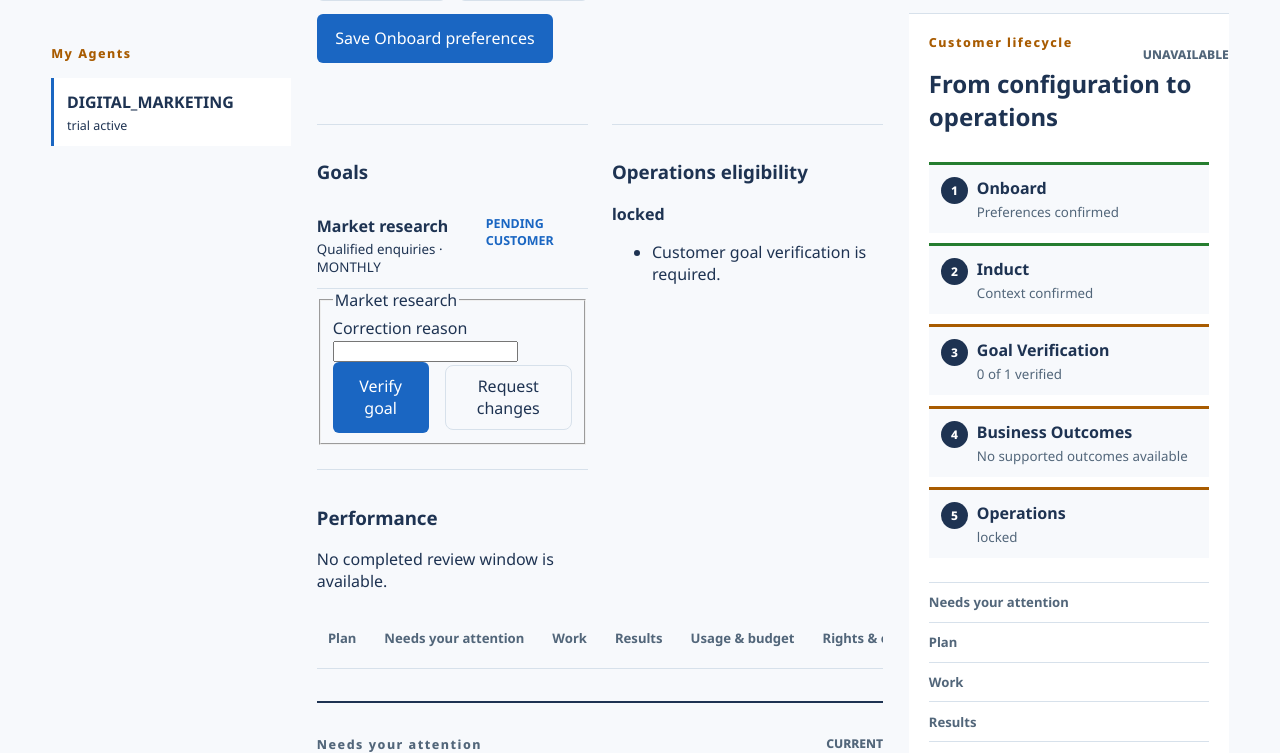
Scenario: RelationshipWorkspace › submits exact-version customer goal verification for only the current relationship
(page scrolled)
Click the button "Verify goal": (381, 397) [333,362,428,433]
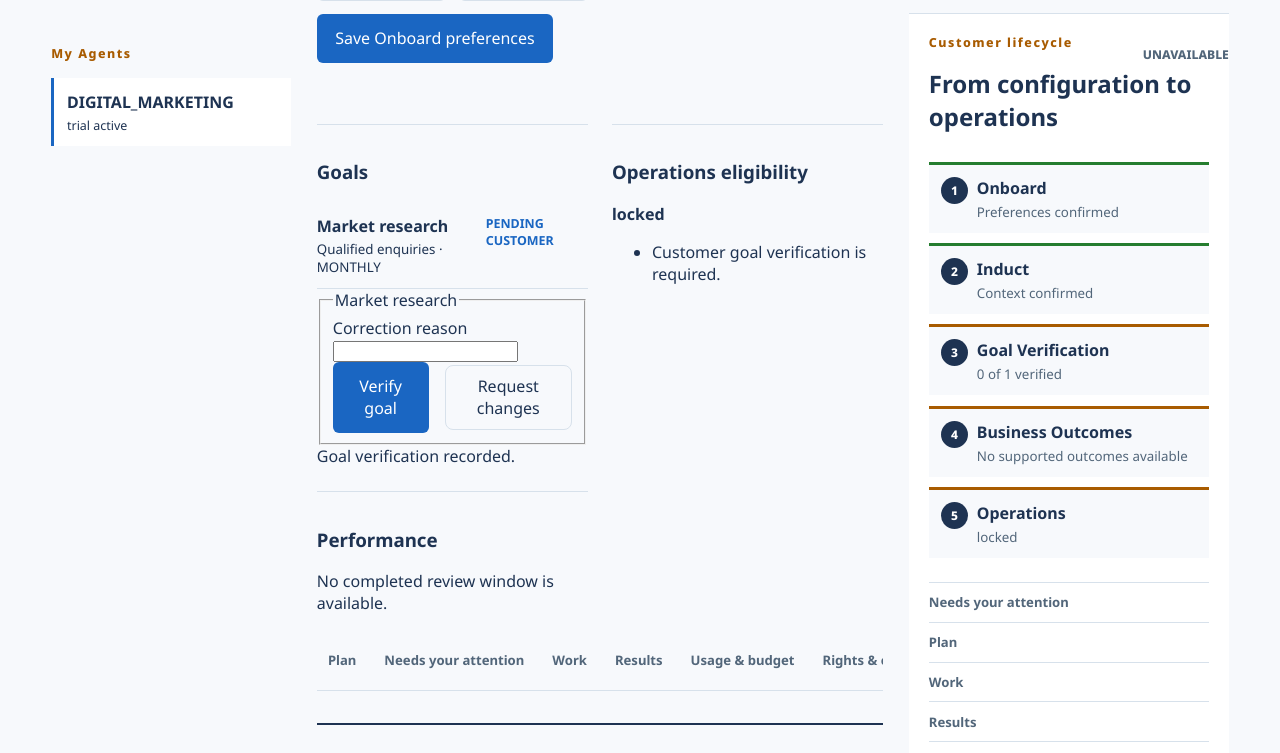
Expected: the text "Goal verification recorded." is shown, [317,445,515,467]
